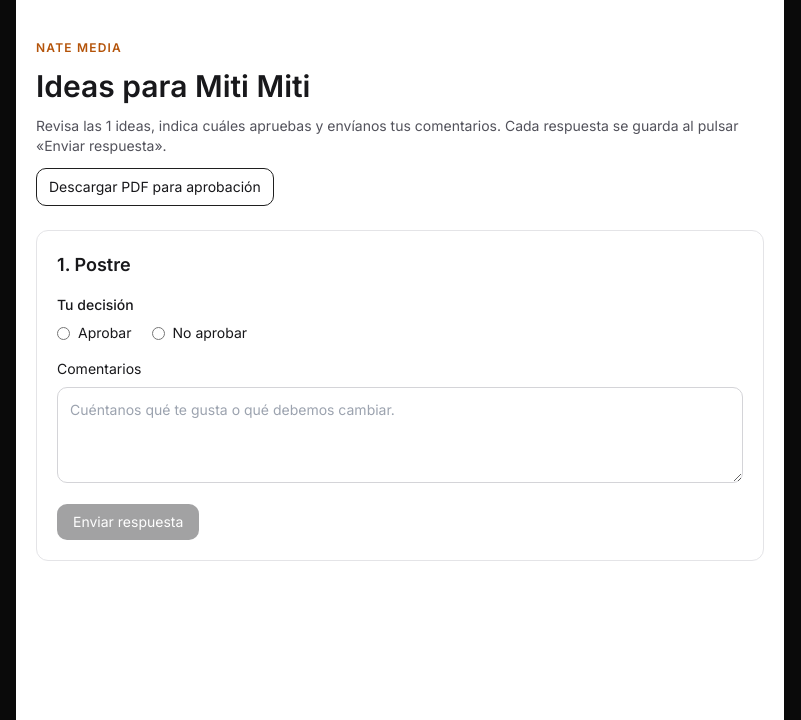
Test case: aprobación del cliente › no presenta un fallo como una aprobación guardada
Click the radio button labelled "Aprobar" at (64, 333), box [57, 326, 70, 340]
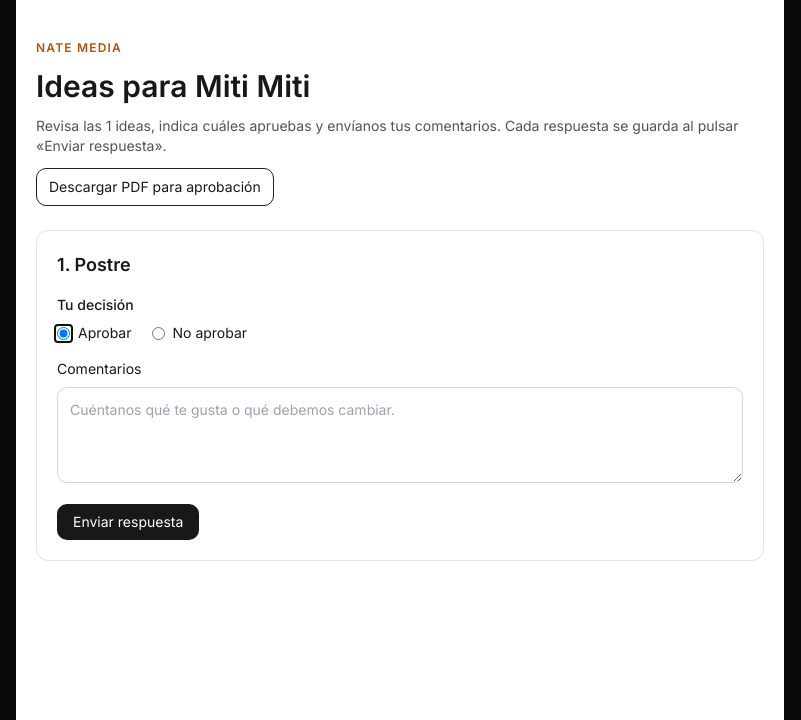
Click the button "Enviar respuesta" at (128, 522), box [57, 504, 199, 540]
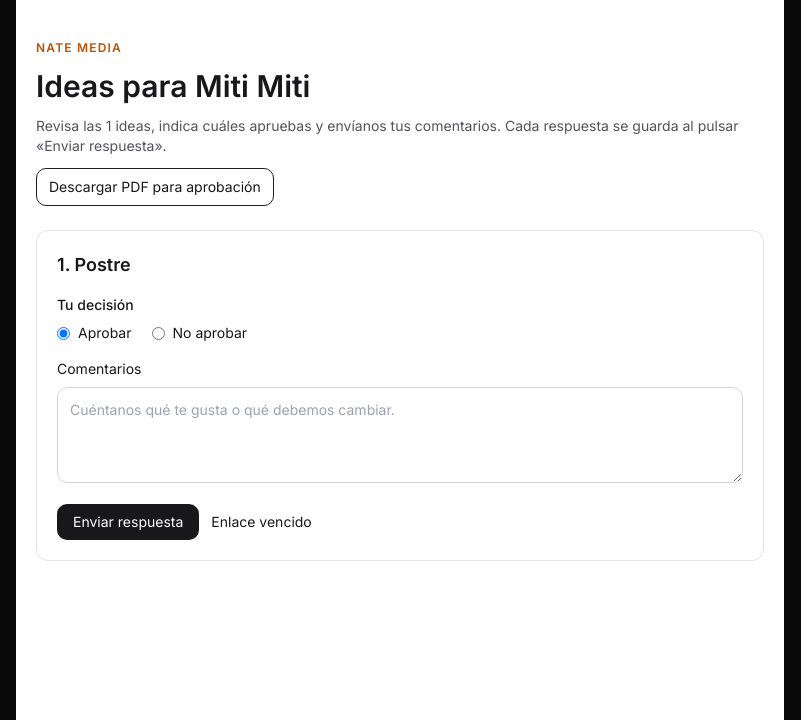
Expected: the text "Enlace vencido" is shown, [211, 512, 312, 532]
